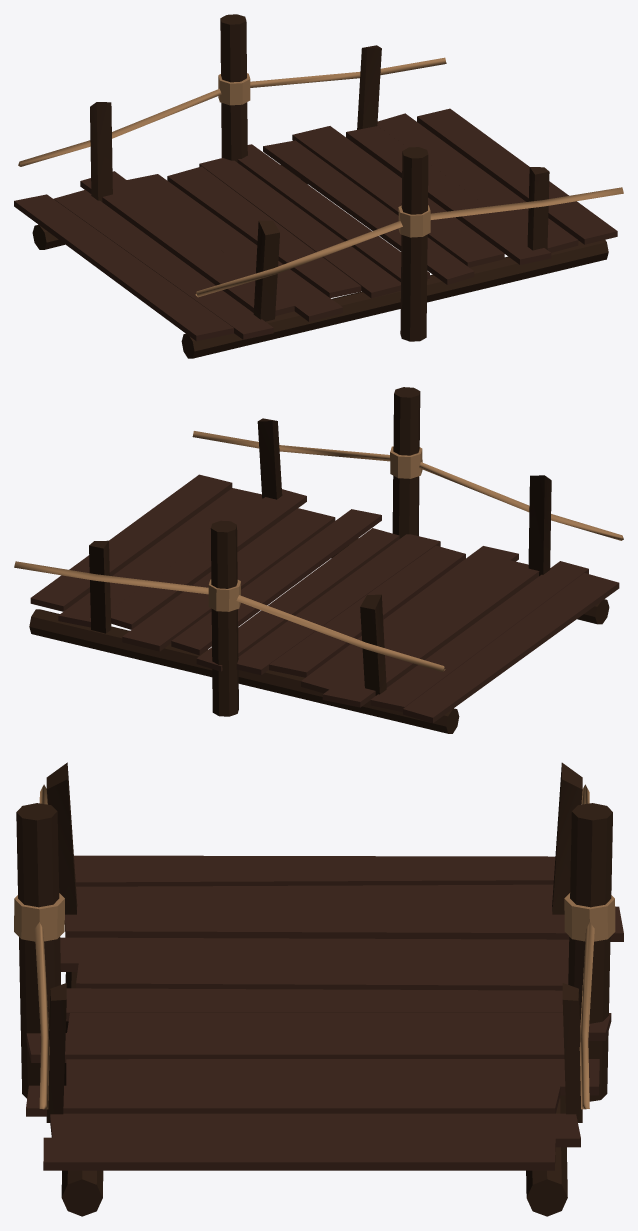
Rendered from Assets - Wooden Bridge Mid 1.0.fbx.
3 views of the same model, one above another, from view 1: azimuth 30°, elevation 25°; view 2: azimuth 150°, elevation 25°; view 3: azimuth 270°, elevation 25° (orthographic). The views are drawn at different scales.
Visible parts, largest first — view 1: Wood Bridge Mid, Wood Bridge Mid Leg, Wood Bridge Mid Rope; view 2: Wood Bridge Mid, Wood Bridge Mid Leg, Wood Bridge Mid Rope; view 3: Wood Bridge Mid, Wood Bridge Mid Leg, Wood Bridge Mid Rope.
Part boxes in pixels (box(x1,y1,x2,y2)): Wood Bridge Mid: box(14, 108, 617, 341); Wood Bridge Mid Leg: box(32, 14, 608, 358); Wood Bridge Mid Rope: box(18, 57, 623, 297); Wood Bridge Mid: box(30, 474, 619, 723); Wood Bridge Mid Leg: box(29, 387, 609, 733); Wood Bridge Mid Rope: box(14, 431, 623, 671); Wood Bridge Mid: box(26, 855, 623, 1170); Wood Bridge Mid Leg: box(14, 762, 615, 1216); Wood Bridge Mid Rope: box(34, 784, 594, 1109).
Size of the model in its own units: 1081 by 879 by 450.
